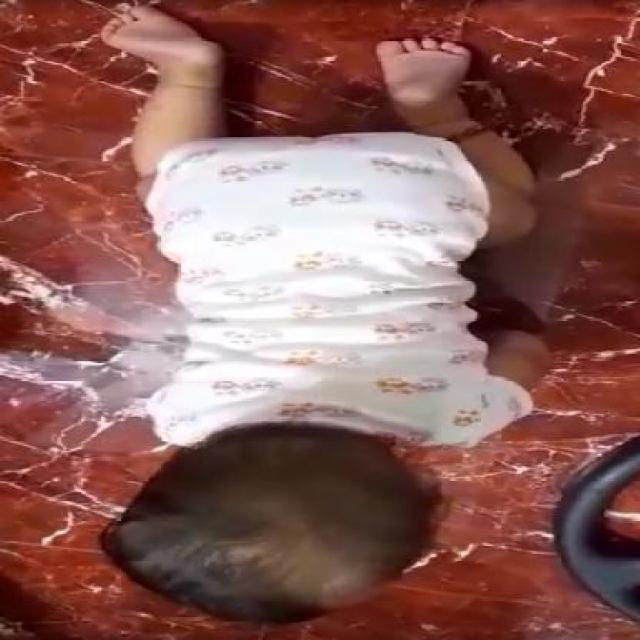baby: (96, 9, 550, 625)
